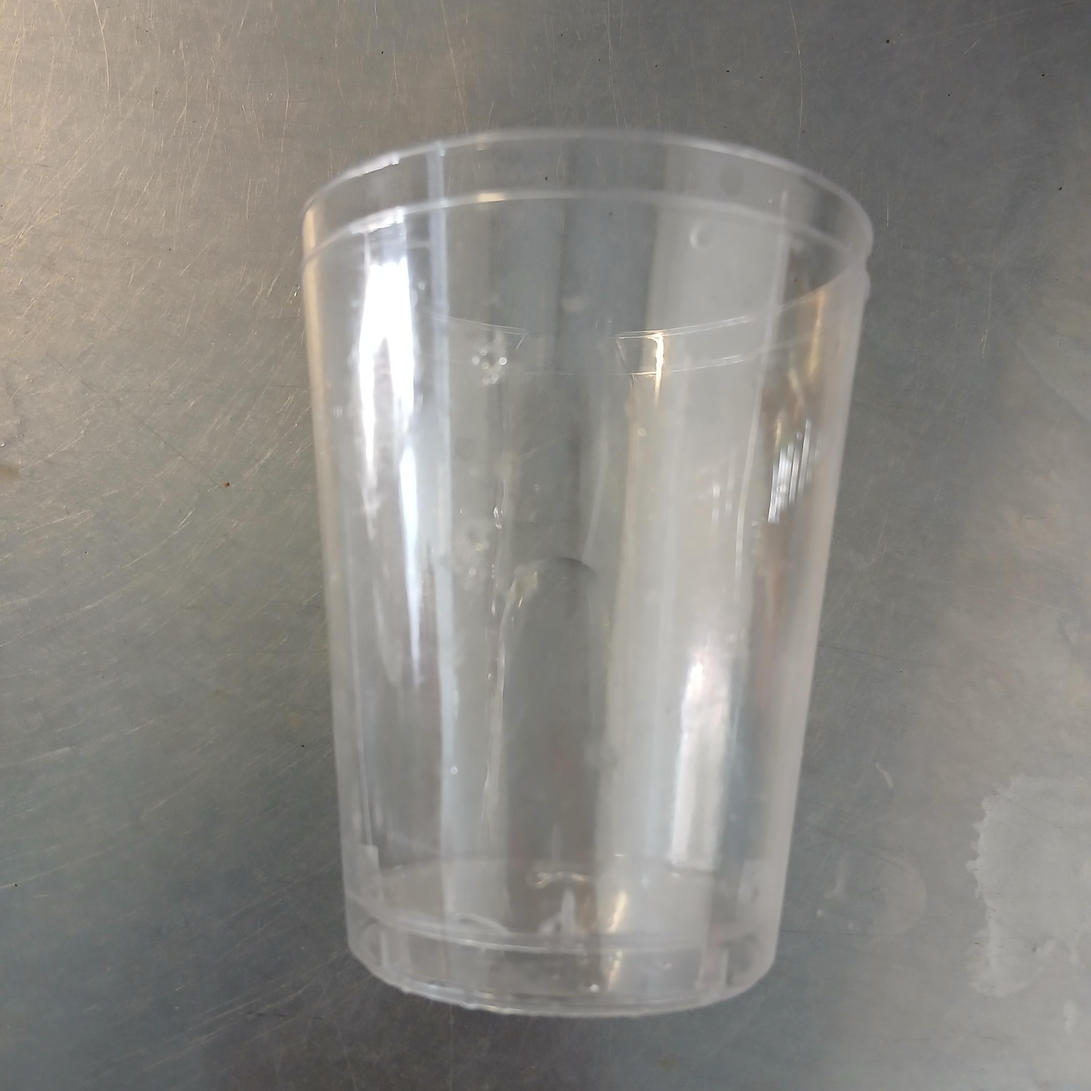Plastico: (301, 129, 870, 1027)
